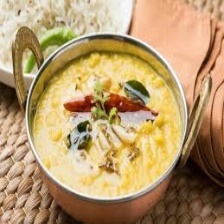rice: (0, 0, 127, 78)
